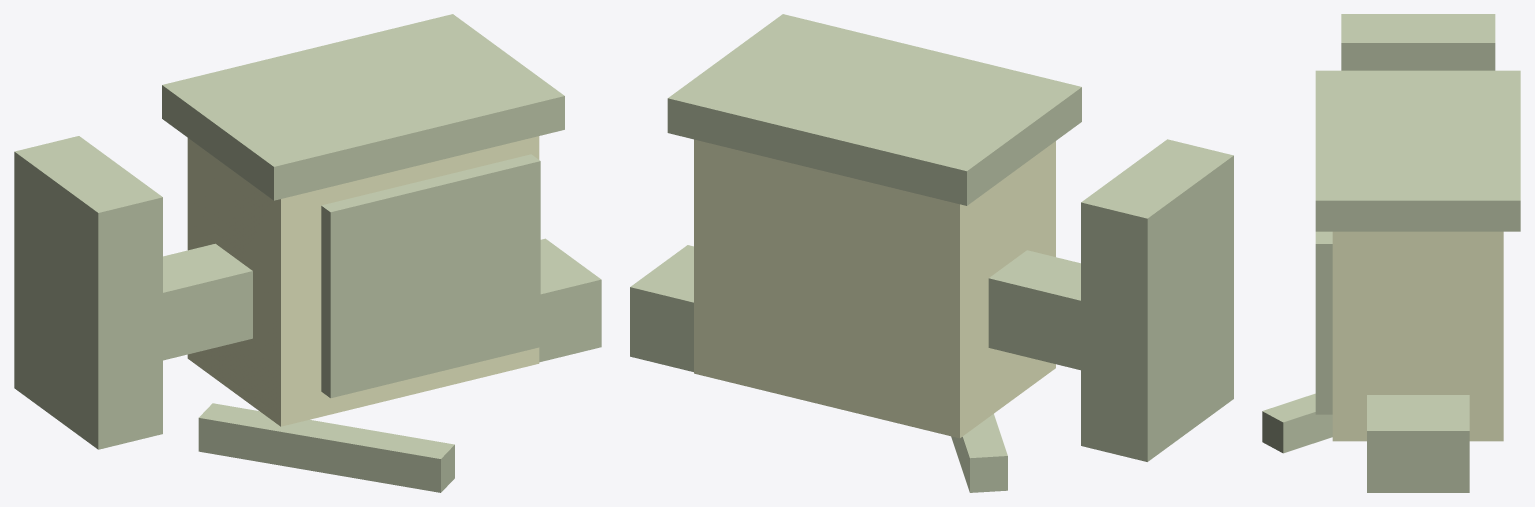
Rendered from furniture_signal_cantilever_aux_controller_box.glb.
The picture shows the model from 3 angles, left to right: view 1: azimuth 30°, elevation 25°; view 2: azimuth 150°, elevation 25°; view 3: azimuth 270°, elevation 25°; orthographic projection. The views are drawn at different scales.
Parts seen in each view (by area): view 1: top_cap, hinge_face, mount_plate, controller_body, conduit_elbow, mount_arm, terminal_stub; view 2: controller_body, top_cap, mount_plate, mount_arm, terminal_stub, conduit_elbow; view 3: top_cap, controller_body, terminal_stub, mount_plate, hinge_face, conduit_elbow.
Boxes of the visible parts, x1,y1,x2,y2 form: top_cap: (162, 14, 564, 200); hinge_face: (321, 154, 540, 398); mount_plate: (14, 136, 162, 449); controller_body: (187, 136, 539, 426); conduit_elbow: (198, 403, 454, 492); mount_arm: (163, 243, 252, 360); terminal_stub: (539, 238, 601, 362); controller_body: (694, 139, 1055, 438); top_cap: (667, 14, 1081, 205); mount_plate: (1081, 139, 1233, 461); mount_arm: (988, 250, 1080, 370); terminal_stub: (630, 245, 693, 371); conduit_elbow: (951, 414, 1007, 492); top_cap: (1315, 70, 1520, 231); controller_body: (1332, 231, 1503, 441); terminal_stub: (1367, 395, 1469, 492); mount_plate: (1341, 14, 1495, 70); hinge_face: (1315, 231, 1332, 414); conduit_elbow: (1262, 393, 1332, 453).
Bounding box in the file's own units: 0.64 × 0.4 × 0.3026.
